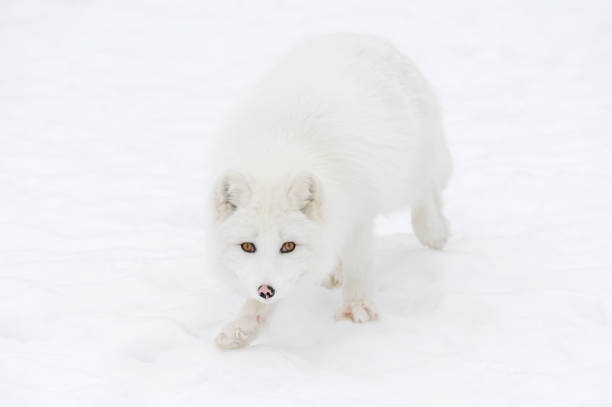arcticfox: (219, 197, 322, 315)
